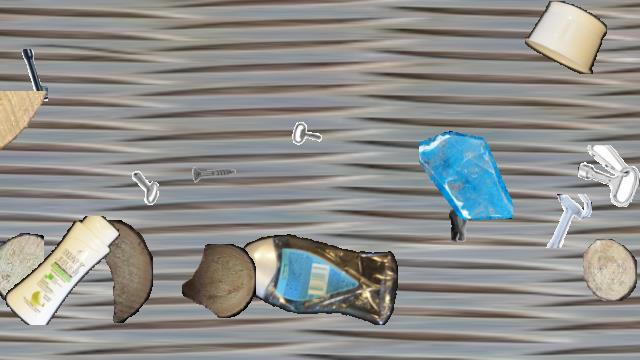glass: (419, 130, 513, 224)
metal: (578, 145, 640, 207), (540, 194, 594, 248), (131, 152, 185, 206), (0, 49, 48, 107), (434, 202, 484, 252), (190, 152, 236, 198), (292, 108, 332, 148)
plastic: (237, 233, 397, 329), (2, 216, 124, 324), (525, 1, 607, 73)
wood: (81, 220, 153, 322), (182, 244, 256, 318), (0, 91, 51, 159), (583, 239, 637, 301), (0, 233, 44, 305)
